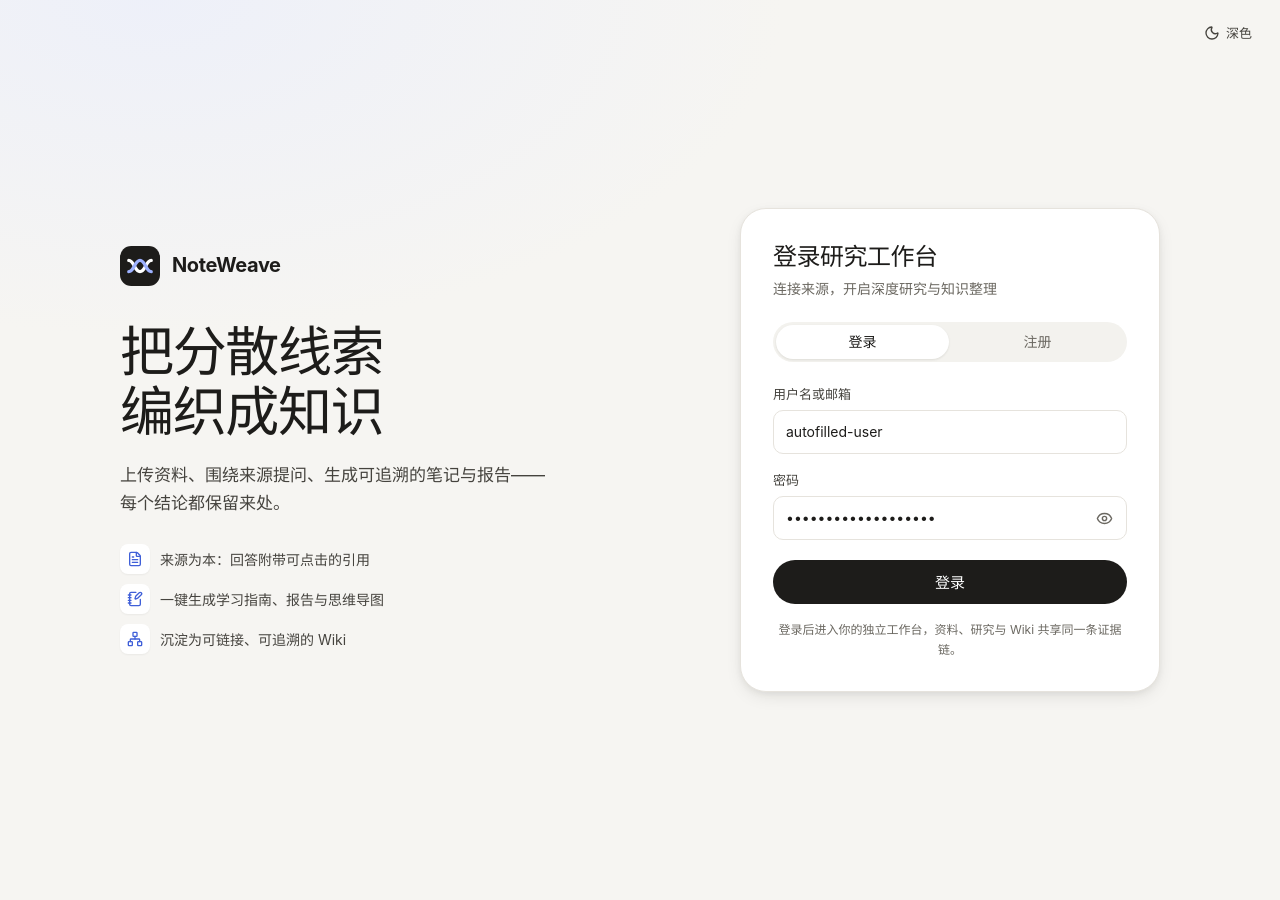
Test: AuthGate › syncs browser autofill and exposes password visibility controls
expect the button "登录" is enabled: met, box 773,560 -> 1127,604
Click the button named "显示登录密码": (1104, 518) 1087,501 -> 1121,535
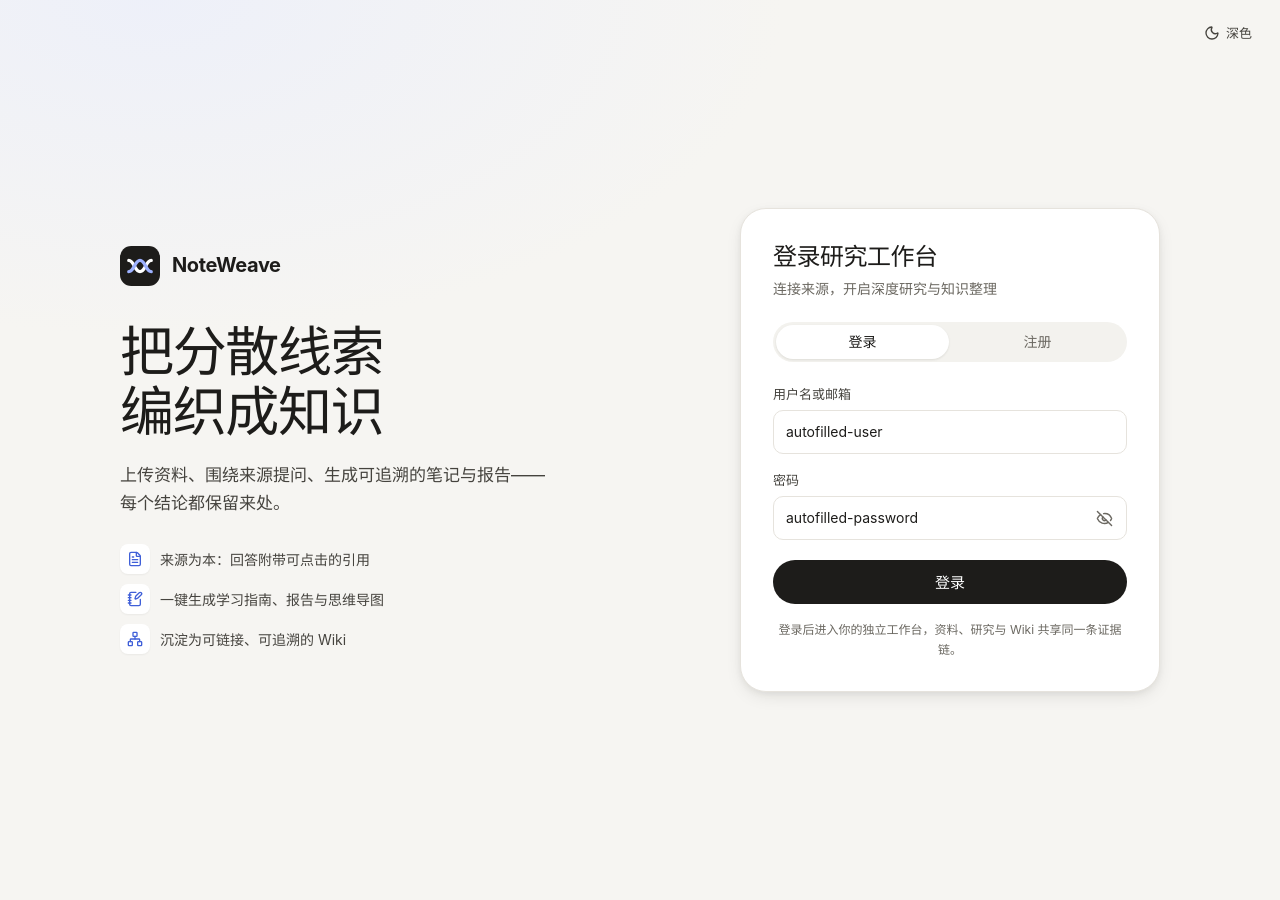
expect the button named "隐藏登录密码" is shown: met, box 1087,501 -> 1121,535
